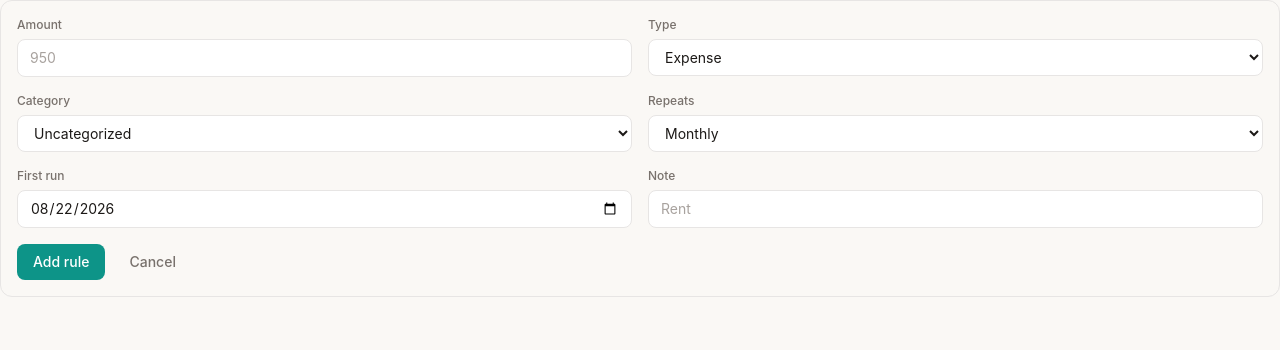
RecurringForm › blocks a missing run date
Type "10" into the number field labelled "Amount" at (324, 58), box [17, 39, 632, 77]
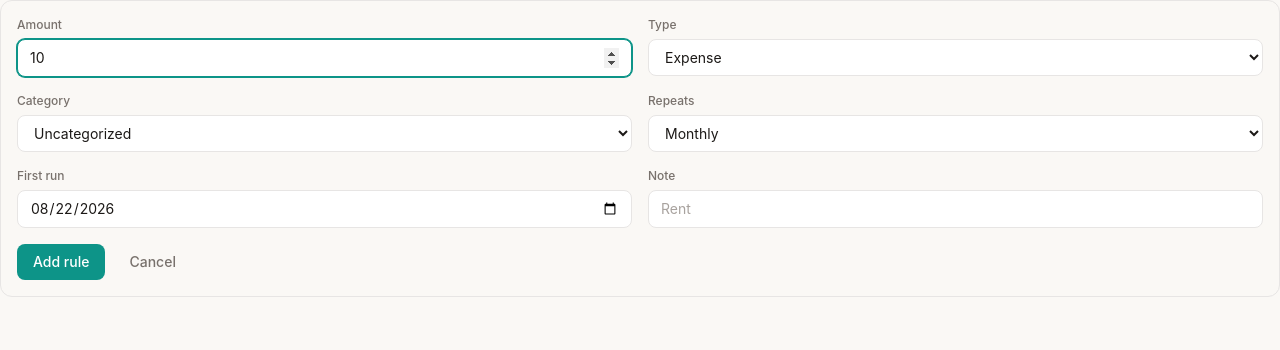
Clear the date field labelled "First run" at (324, 209), box [17, 190, 632, 228]
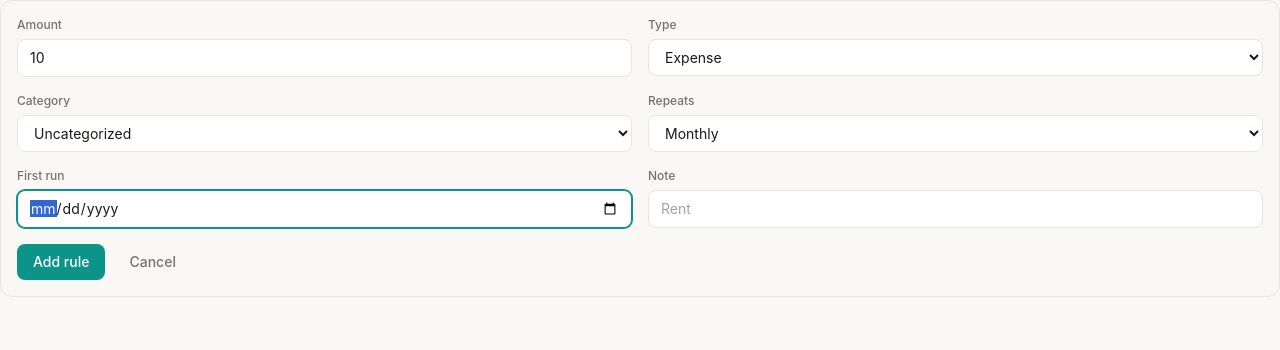
Submit the form
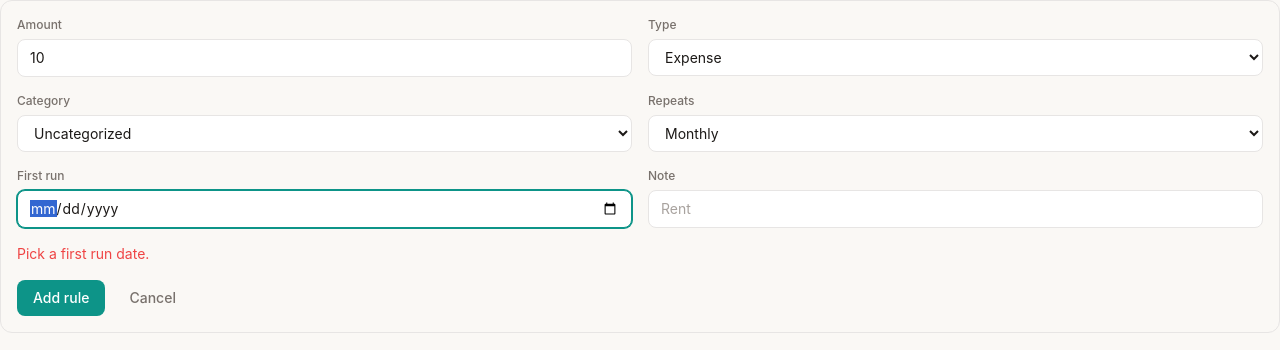
Expected: the text "Pick a first run date." is shown, [17, 245, 149, 262]
